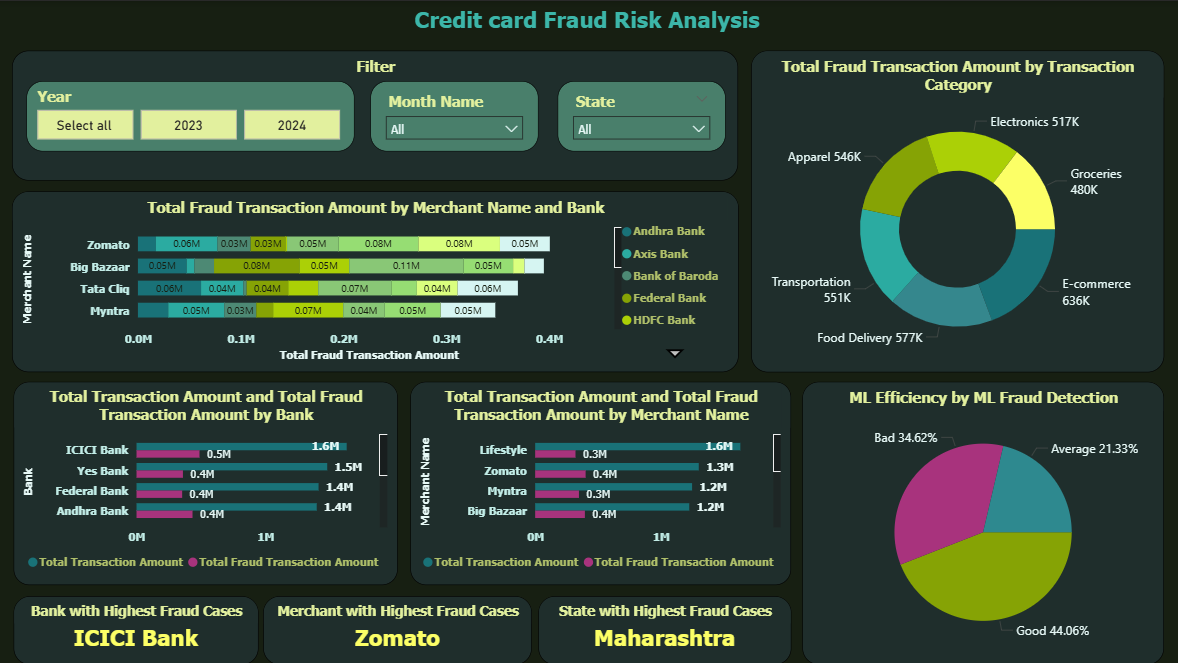

The dashboard page shown, as its layout file describes it:
{"tool":"powerbi","page":{"name":"Credit Card ","canvas":[1280,720],"ordinal":0},"visuals":[{"type":"textbox","box":[0,0,1279.3,46.7],"z":0},{"type":"clusteredBarChart","fields":{"Category":["Credit Card Fraud Risk Analysis.Merchant Name"],"Y":["Credit Card Fraud Risk Analysis.Total Transaction Amount","Credit Card Fraud Risk Analysis.Total Fraud Transaction Amount"]},"box":[448.4,412,412,219.9],"z":1000},{"type":"clusteredBarChart","fields":{"Category":["Credit Card Fraud Risk Analysis.Bank"],"Y":["Credit Card Fraud Risk Analysis.Total Transaction Amount","Credit Card Fraud Risk Analysis.Total Fraud Transaction Amount"]},"box":[19,412,415.5,219.9],"z":2000},{"type":"barChart","title":"Total Fraud Transaction Amount by Merchant Name and Bank","fields":{"Category":["Credit Card Fraud Risk Analysis.Merchant Name"],"Series":["Credit Card Fraud Risk Analysis.Bank"],"Y":["Credit Card Fraud Risk Analysis.Total Fraud Transaction Amount"]},"box":[17.3,206,785.9,195.6],"z":3000},{"type":"textbox","title":"Filter","box":[18,54.1,785.8,140.3],"z":4000},{"type":"slicer","fields":{"Values":["Credit Card Fraud Risk Analysis.State"]},"box":[607.6,86.6,181.8,76.2],"z":5000},{"type":"slicer","fields":{"Values":["Credit Card Fraud Risk Analysis.Month Name"]},"box":[405.1,86.6,181.8,76.2],"z":6000},{"type":"advancedSlicerVisual","title":"Year","fields":{"Values":["Credit Card Fraud Risk Analysis.Year"]},"box":[32.9,86.6,354.9,76.2],"z":7000},{"type":"donutChart","fields":{"Y":["Credit Card Fraud Risk Analysis.Total Fraud Transaction Amount"],"Category":["Credit Card Fraud Risk Analysis.Transaction Category"]},"box":[817.1,53.7,446.6,348],"z":8000},{"type":"pieChart","fields":{"Category":["Credit Card Fraud Risk Analysis.ML Fraud Detection"],"Y":["Credit Card Fraud Risk Analysis.ML Efficiency"]},"box":[872.5,412,391.2,306.4],"z":9000},{"type":"card","title":"Bank with Highest Fraud Cases","fields":{"Values":["Credit Card Fraud Risk Analysis.Top Frauded Bank"]},"box":[19,644,264.9,74.4],"z":10000},{"type":"card","title":"Merchant with Highest Fraud Cases","fields":{"Values":["Credit Card Fraud Risk Analysis.Top Frauded Merchant"]},"box":[289.1,644,290.8,74.4],"z":11000},{"type":"card","title":"State with Highest Fraud Cases","fields":{"Values":["Credit Card Fraud Risk Analysis.Top Frauded States"]},"box":[586.9,644,273.5,74.4],"z":12000}]}

Visuals, with their boxes in screenshot pixels (x1, y1, x2, y2), scaled from the page's 1280x720 canvas onto the 1178x663 screenshot:
textbox: <box>0,0,1177,43</box>
clusteredBarChart - Credit Card Fraud Risk Analysis.Merchant Name x Credit Card Fraud Risk Analysis.Total Transaction Amount: <box>413,379,792,582</box>
clusteredBarChart - Credit Card Fraud Risk Analysis.Bank x Credit Card Fraud Risk Analysis.Total Transaction Amount: <box>17,379,400,582</box>
"Total Fraud Transaction Amount by Merchant Name and Bank" barChart: <box>16,190,739,370</box>
"Filter" textbox: <box>17,50,740,179</box>
slicer - Credit Card Fraud Risk Analysis.State: <box>559,80,726,150</box>
slicer - Credit Card Fraud Risk Analysis.Month Name: <box>373,80,540,150</box>
"Year" advancedSlicerVisual: <box>30,80,357,150</box>
donutChart - Credit Card Fraud Risk Analysis.Total Fraud Transaction Amount x Credit Card Fraud Risk Analysis.Transaction Category: <box>752,49,1163,370</box>
pieChart - Credit Card Fraud Risk Analysis.ML Fraud Detection x Credit Card Fraud Risk Analysis.ML Efficiency: <box>803,379,1163,662</box>
"Bank with Highest Fraud Cases" card: <box>17,593,261,662</box>
"Merchant with Highest Fraud Cases" card: <box>266,593,534,662</box>
"State with Highest Fraud Cases" card: <box>540,593,792,662</box>
